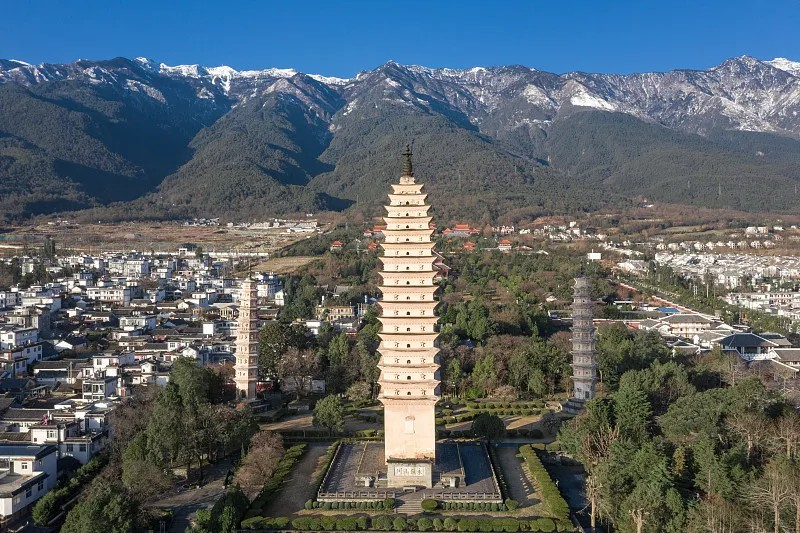ThreePagoda: (376, 143, 441, 462)
